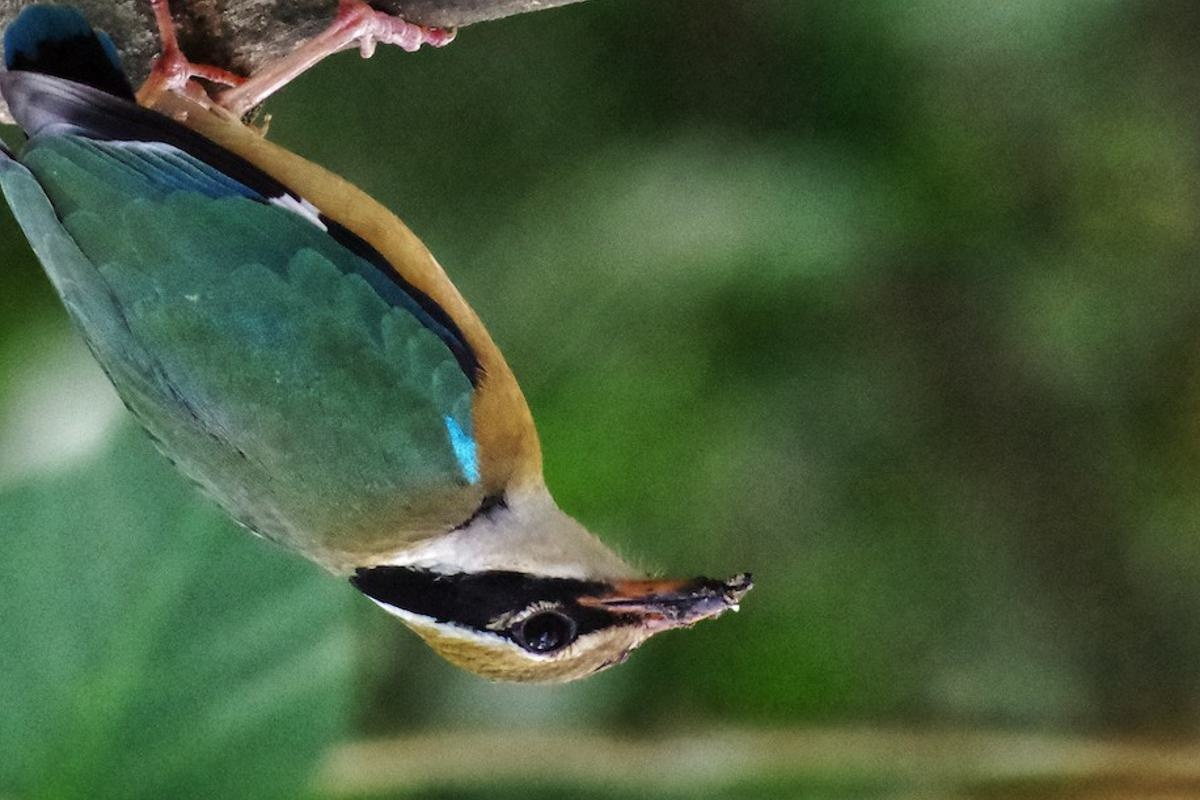pitta: (1, 1, 783, 687)
